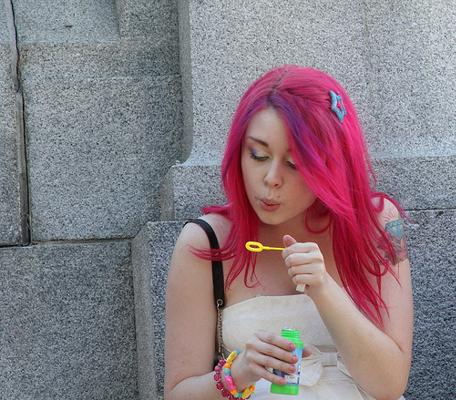person: (159, 69, 419, 400)
